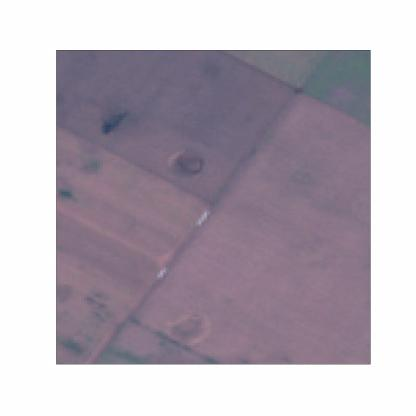silobolsa: (195, 209, 210, 227), (156, 267, 170, 279)
